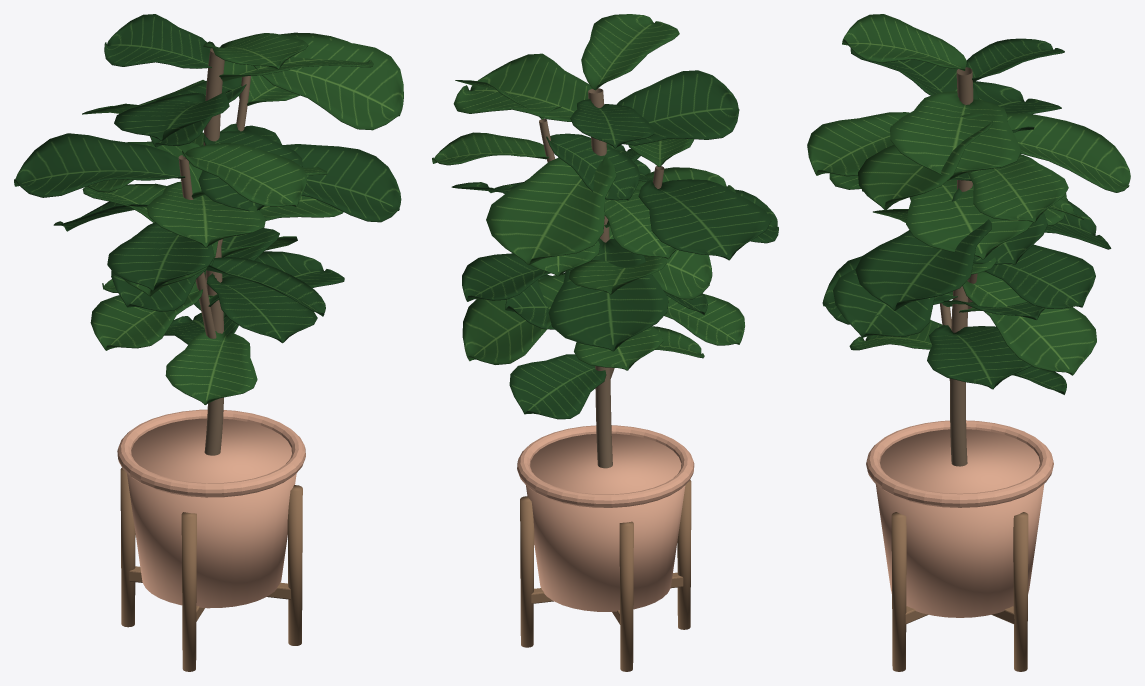
File: fiddle_fig.glb
3 renders of one model, left to right at view 1: azimuth 30°, elevation 25°; view 2: azimuth 150°, elevation 25°; view 3: azimuth 270°, elevation 25°, orthographic. The views are drawn at different scales.
Parts seen in each view (by area): view 1: Fig_Leaves, Planter_Body, Planter_Rim, Fig_TrunkMain, Stand_Leg_2, Stand_Leg_3, Stand_Leg_1, Fig_BranchL; view 2: Fig_Leaves, Planter_Body, Planter_Rim, Stand_Leg_1, Fig_TrunkMain, Stand_Leg_0, Stand_Leg_2; view 3: Fig_Leaves, Planter_Body, Planter_Rim, Fig_TrunkMain, Stand_Leg_0, Stand_Leg_3.
Part boxes in pixels (x1,y1,x2,y2): Fig_Leaves: (14, 14, 403, 404); Planter_Body: (127, 418, 296, 608); Planter_Rim: (117, 409, 305, 497); Fig_TrunkMain: (203, 48, 224, 455); Stand_Leg_2: (181, 512, 196, 671); Stand_Leg_3: (287, 485, 302, 645); Stand_Leg_1: (120, 468, 135, 627); Fig_BranchL: (178, 155, 216, 338); Fig_Leaves: (432, 14, 778, 419); Planter_Body: (526, 433, 685, 611); Planter_Rim: (517, 425, 694, 507); Stand_Leg_1: (619, 521, 633, 671); Fig_TrunkMain: (588, 88, 612, 468); Stand_Leg_0: (520, 496, 534, 647); Stand_Leg_2: (677, 480, 691, 629); Fig_Leaves: (807, 14, 1130, 394); Planter_Body: (875, 429, 1044, 617); Planter_Rim: (866, 420, 1053, 507); Fig_TrunkMain: (950, 67, 973, 466); Stand_Leg_0: (1013, 512, 1028, 671); Stand_Leg_3: (891, 512, 906, 671).
Size of the model in its own units: 0.8909 by 1.51 by 0.7229.
6 materials, 2 textured.
